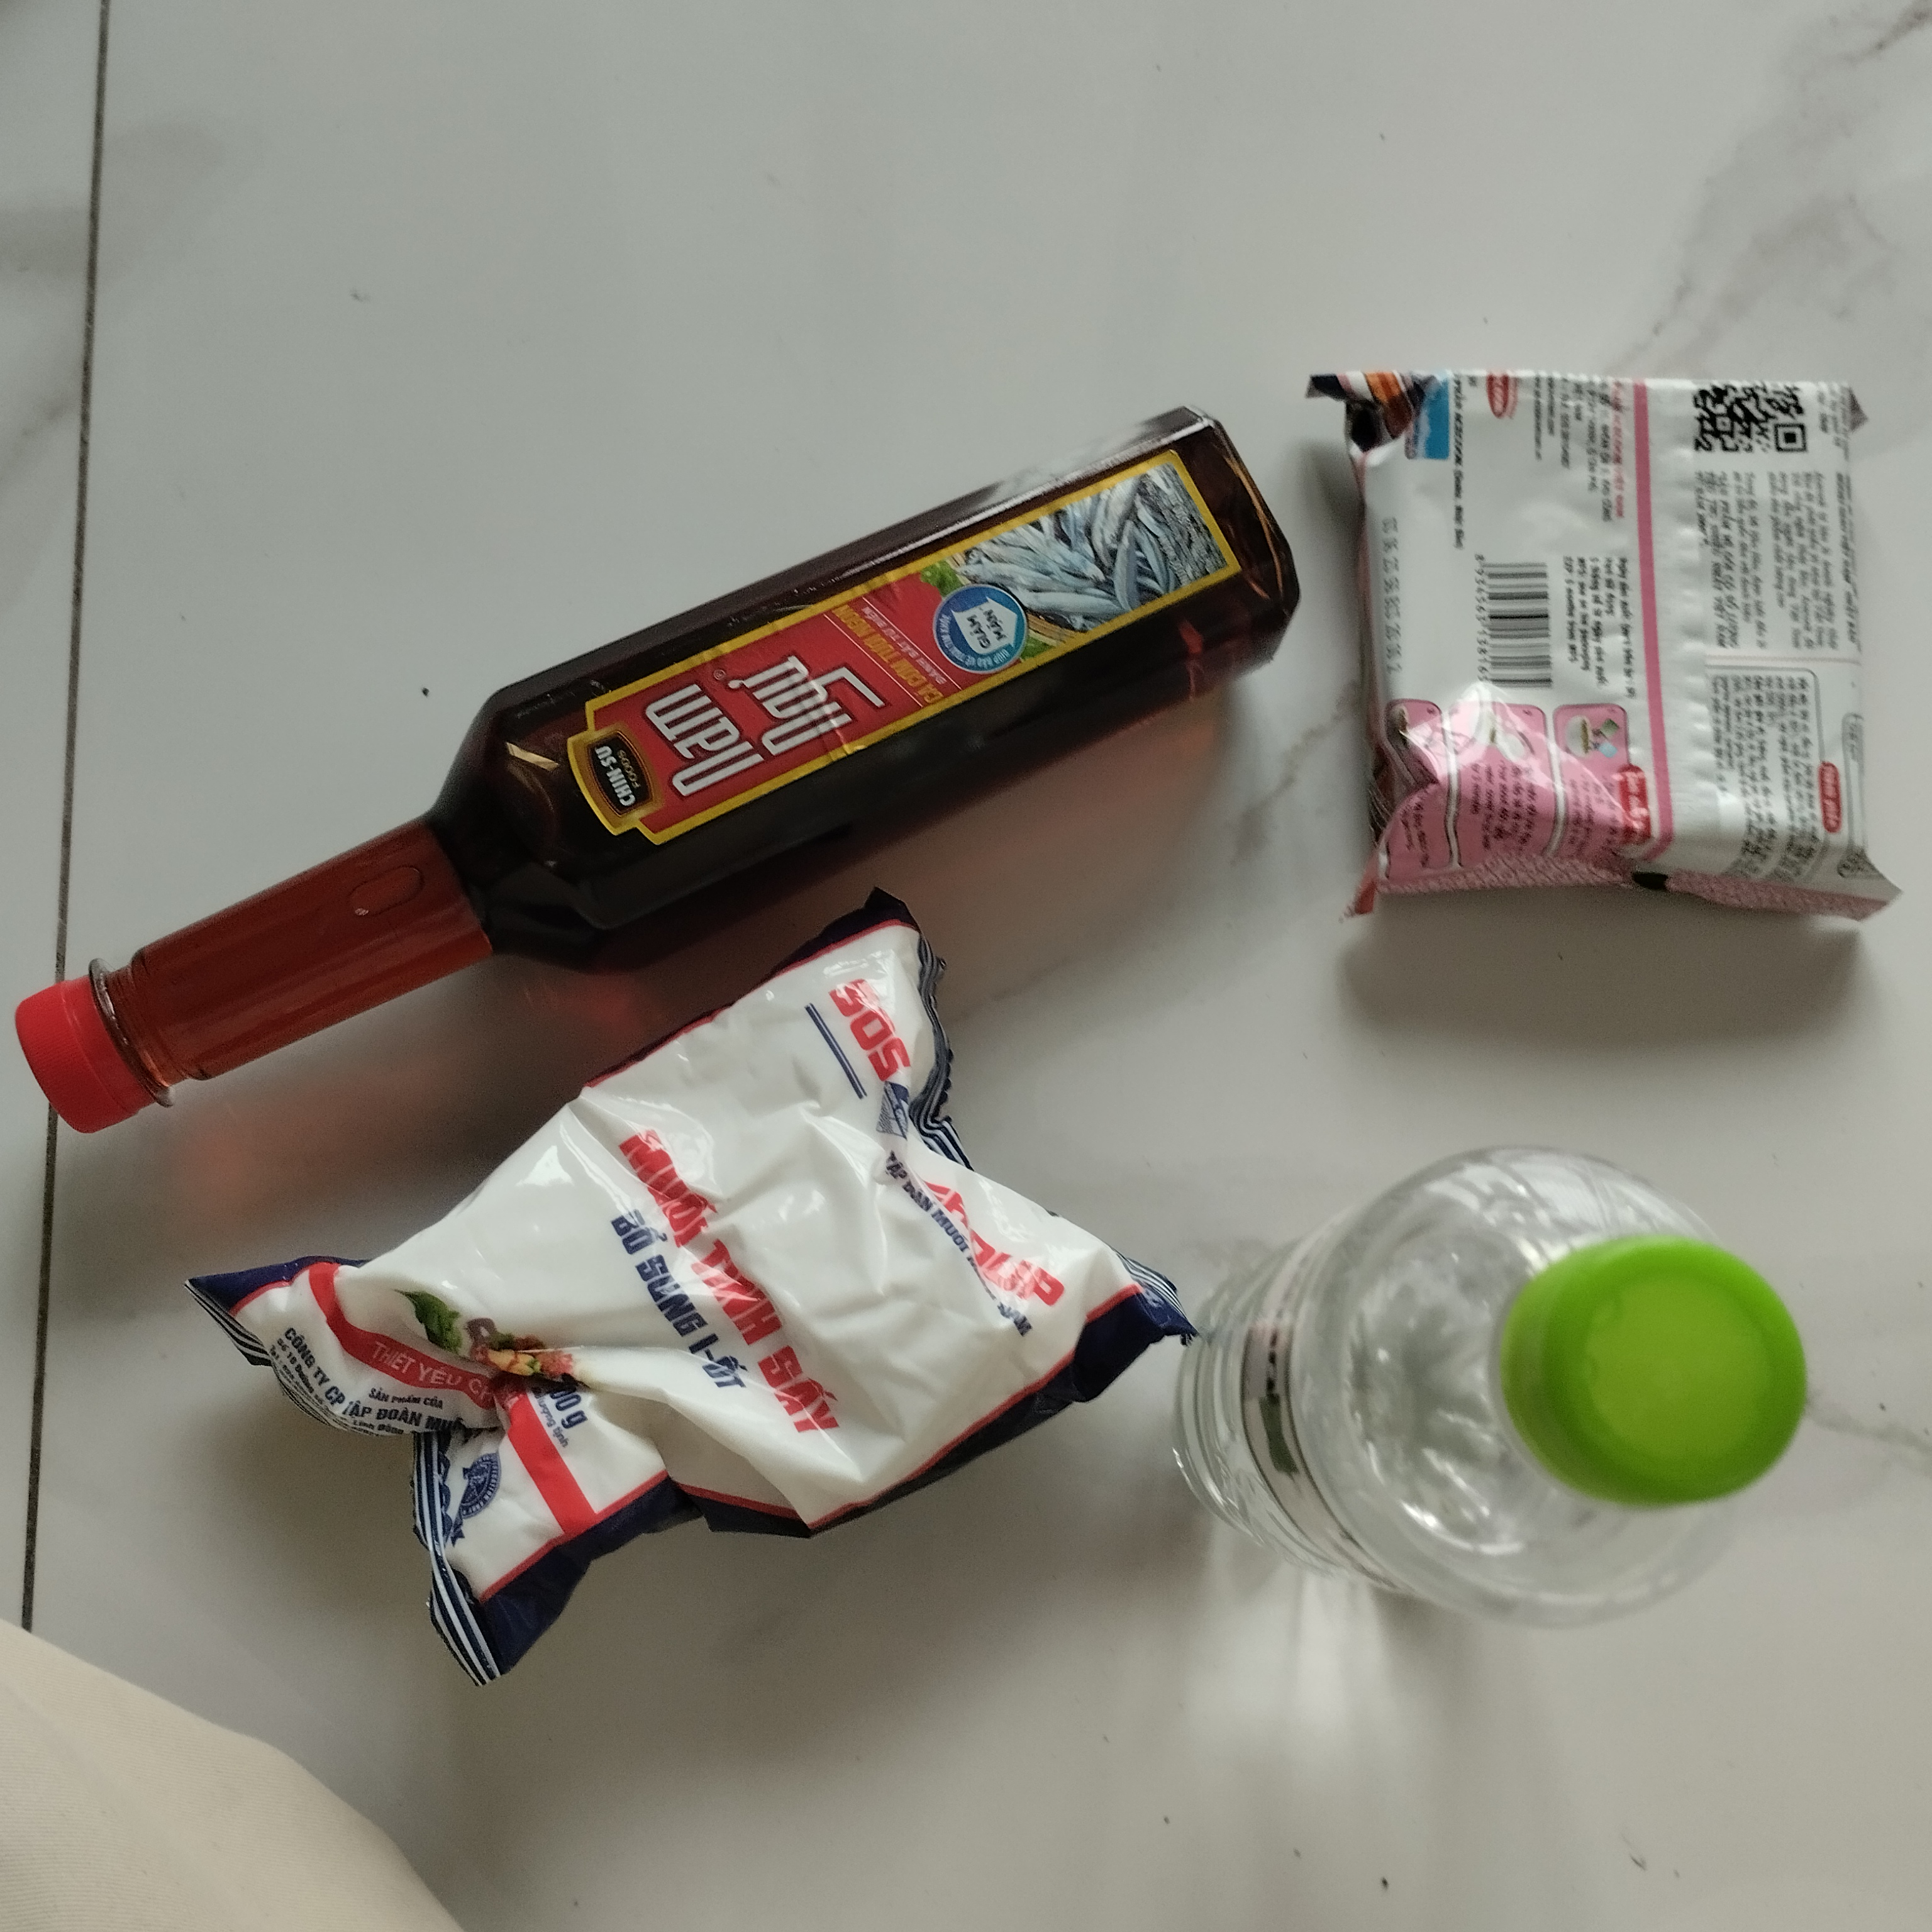Dasani: (1178, 1143, 1822, 1645)
Haohao: (1304, 364, 1932, 939)
Namngu: (19, 405, 1300, 1127)
Salt: (163, 892, 1203, 1709)
